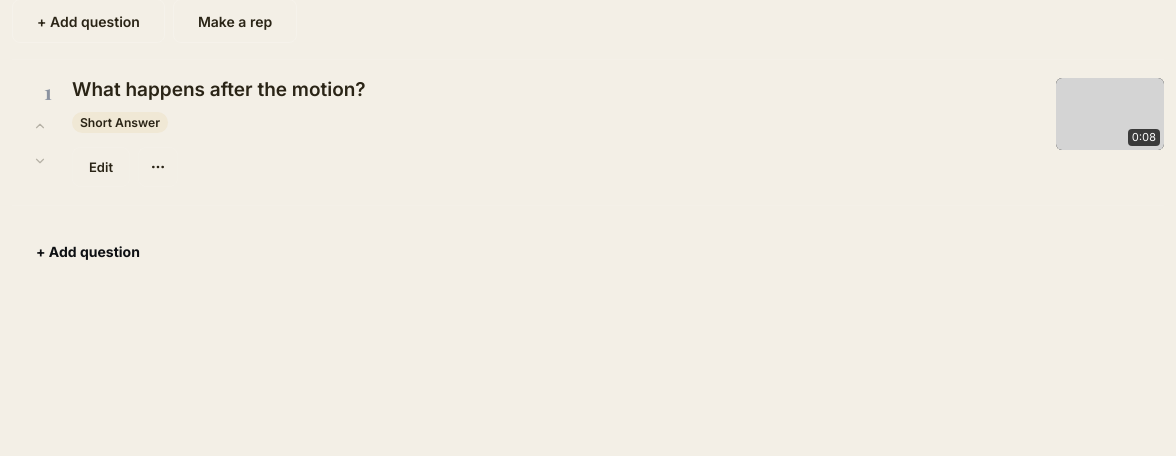
Test: watching, replacing and removing a clip › offers all three deliberate actions
The image size is (1176, 456).
Click the button named "More actions for question 1": (158,166) x1=138 y1=146 x2=178 y2=186
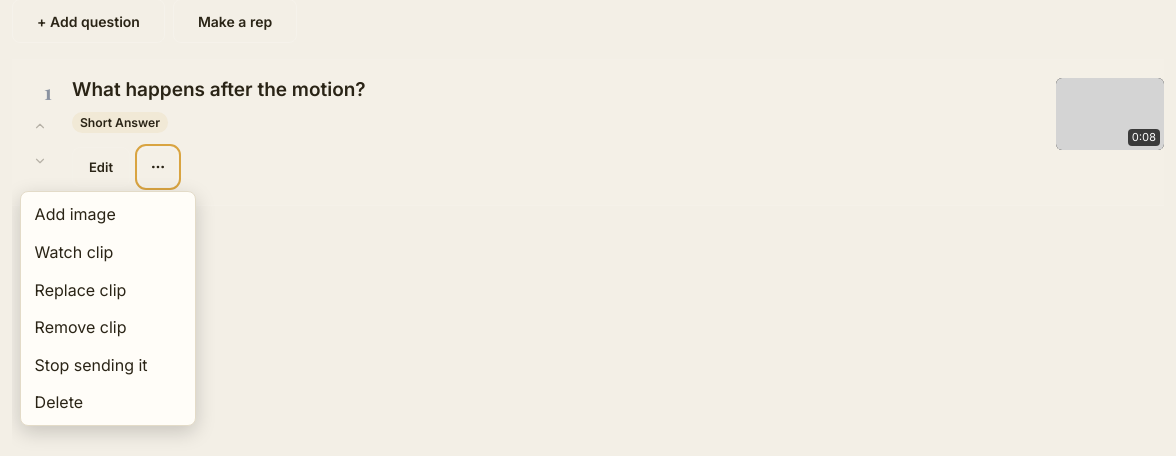
expect the menu item "Watch clip" is shown: met, box x1=25 y1=233 x2=191 y2=271
expect the menu item "Replace clip" is shown: met, box x1=25 y1=271 x2=191 y2=308
expect the menu item "Remove clip" is shown: met, box x1=25 y1=308 x2=191 y2=346
